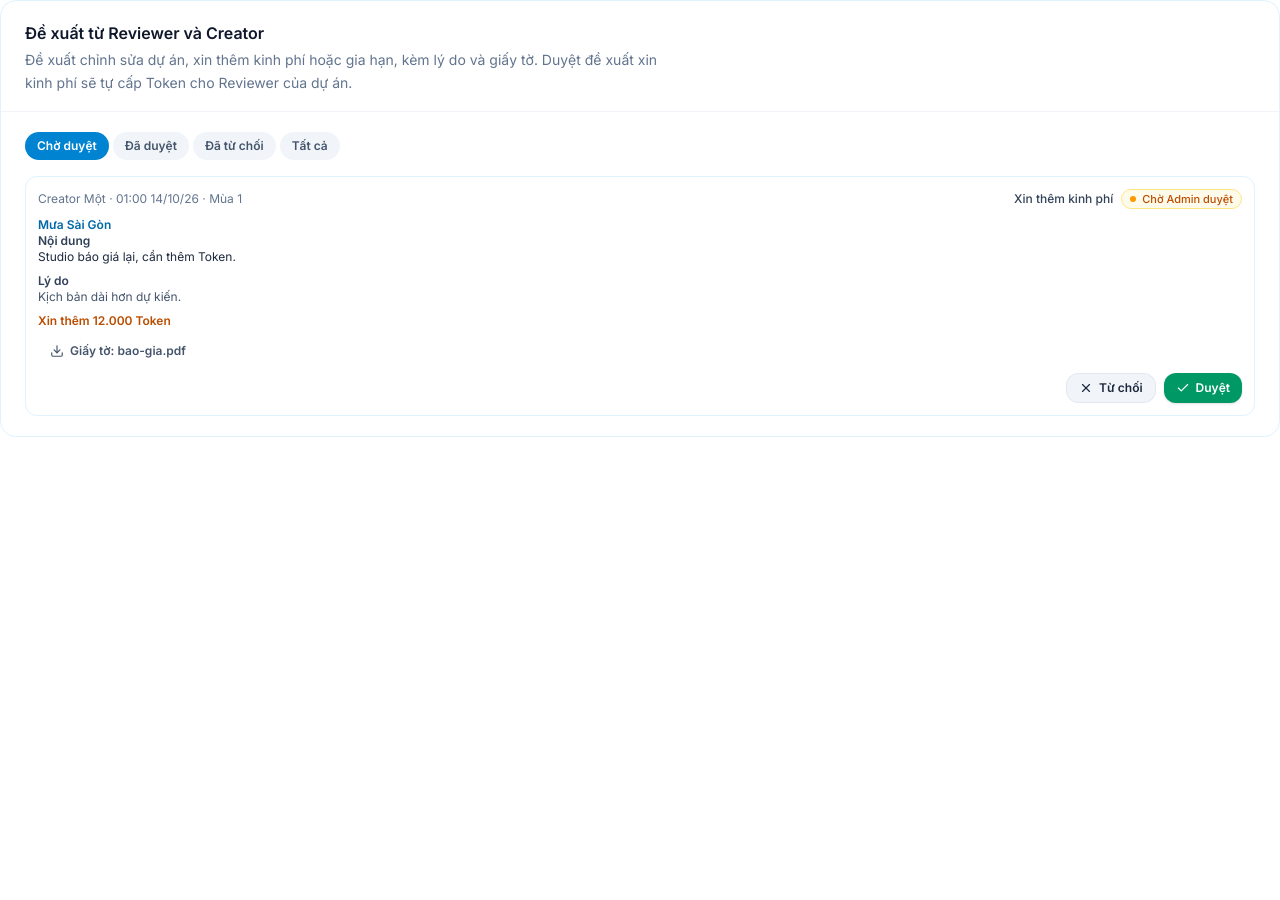
Test: ChangeRequestInbox (BR-55) › asks for a reason before rejecting
The width and height of the screenshot is (1280, 900).
Click the button "Từ chối".
click(1111, 388)  # box 1066,373 -> 1156,403
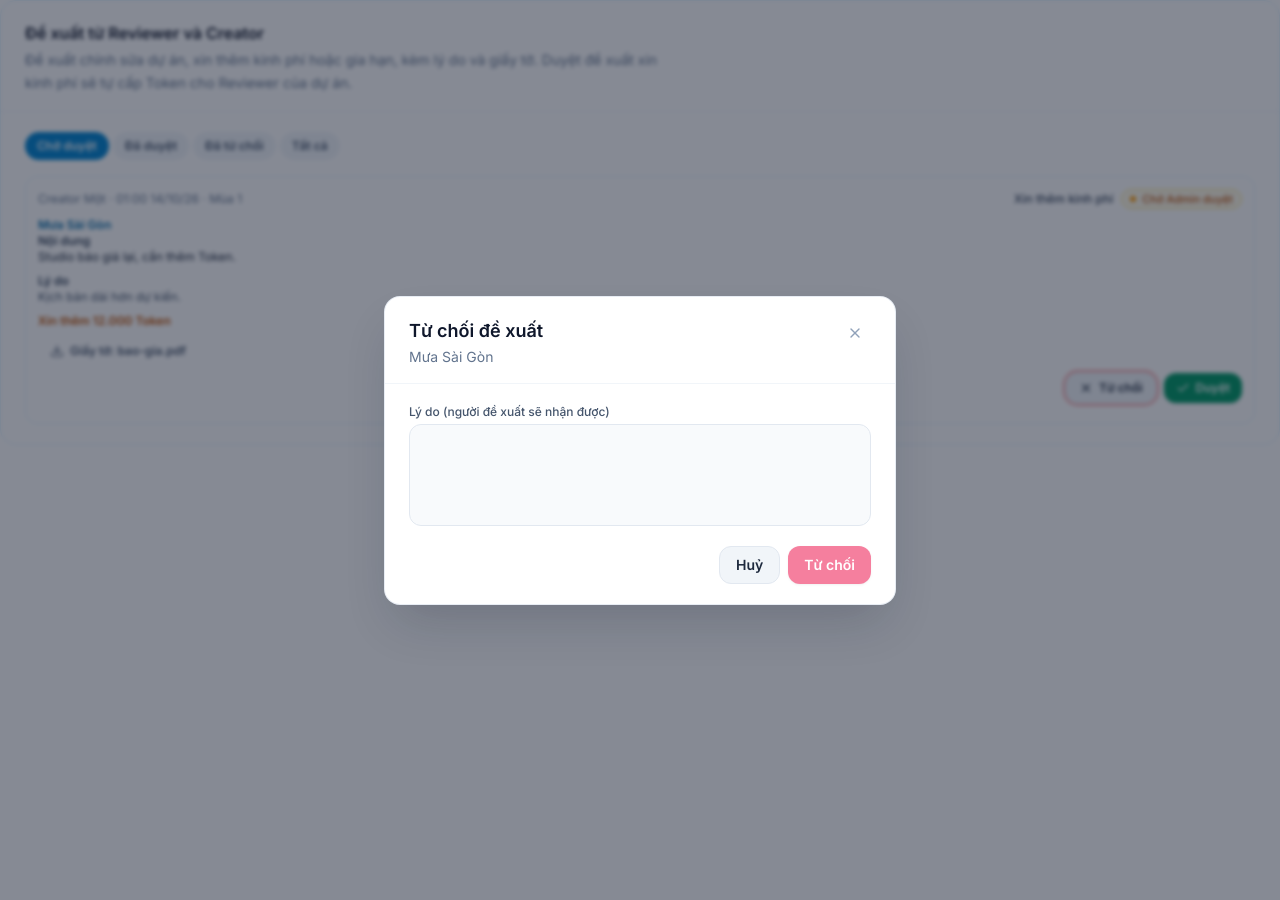
Now the button "Từ chối" is disabled, box 788,546 -> 871,584
Type "Chưa đủ chứng từ." into the text box labelled "Lý do (người đề xuất sẽ nhận được)".
click(640, 474); type("Chưa đủ chứng từ.")  # box 409,424 -> 871,526
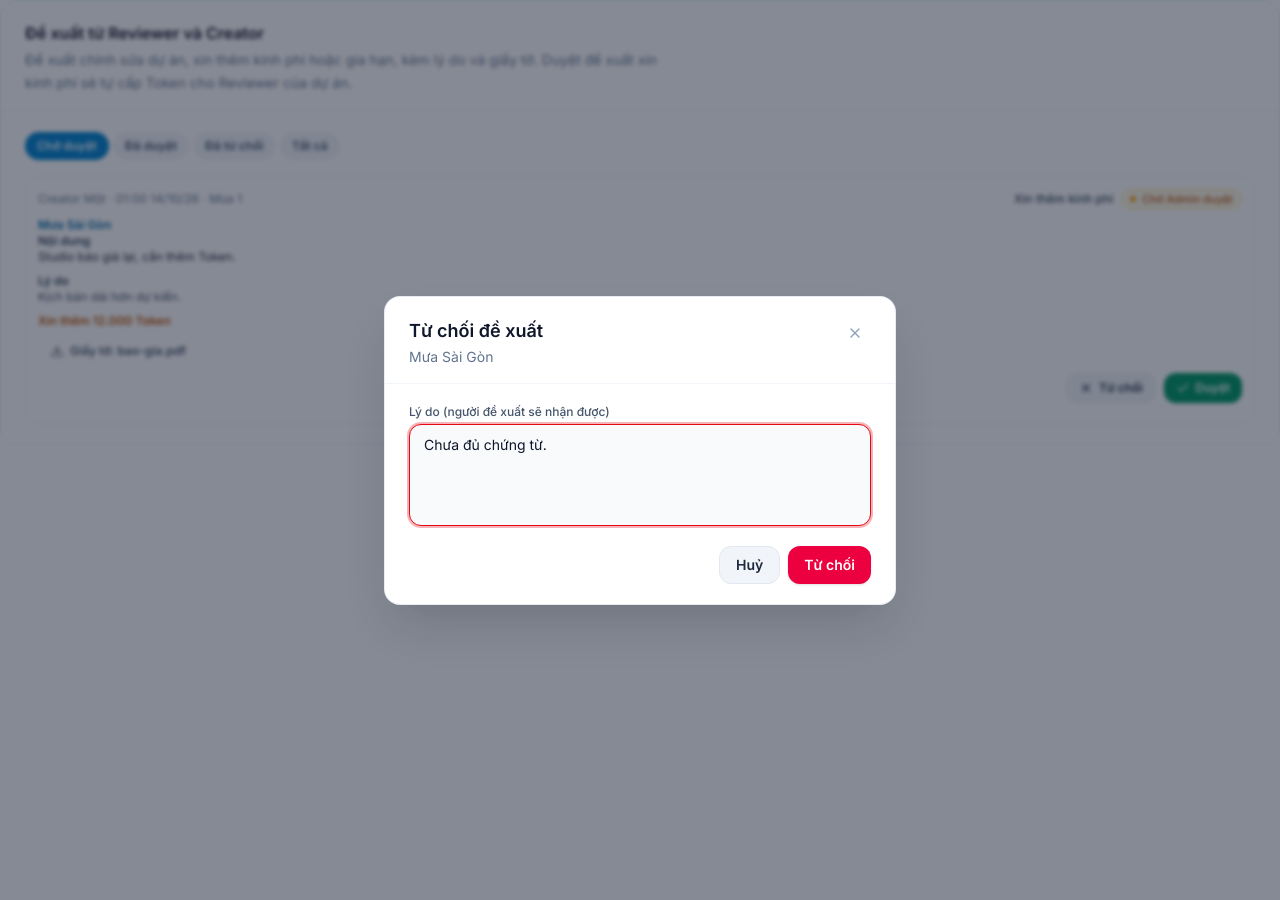
Now the button "Từ chối" is enabled, box 788,546 -> 871,584
